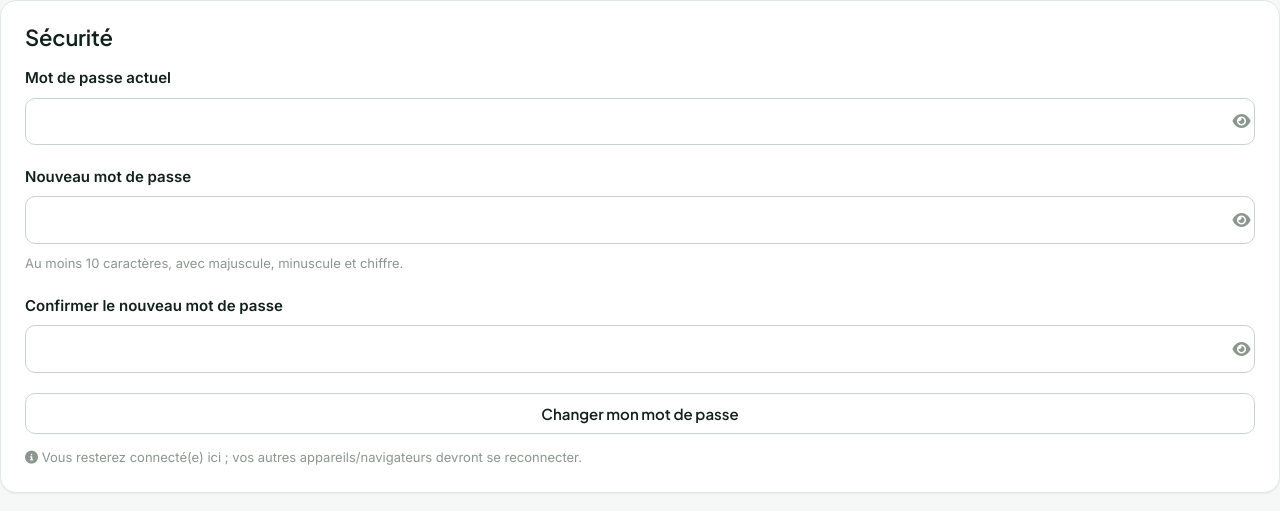
ChangementMotDePasseCard (Lot 13, partagé équipe au Lot 15a) › les 3 champs (actuel/nouveau/confirmation) ont chacun leur bouton œil, indépendants, sans soumettre
The width and height of the screenshot is (1280, 511).
In the password field labelled "Mot de passe actuel": (640, 121) [25,98,1255,145], type "MotDePasse2026"
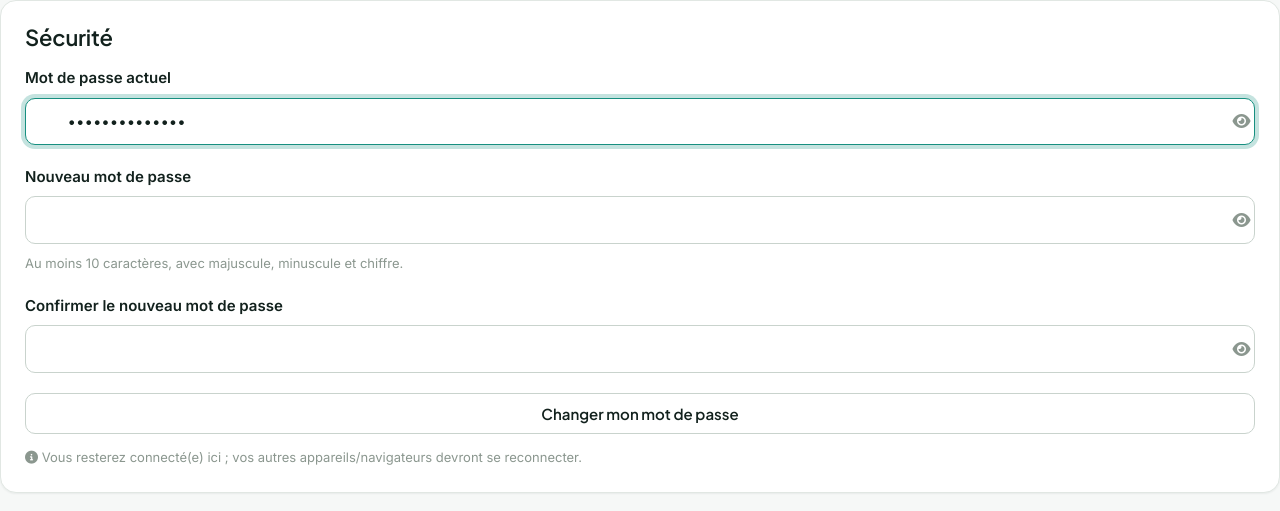
Click the 1st button named "Afficher le mot de passe": (1233, 121) [1218,107,1247,136]
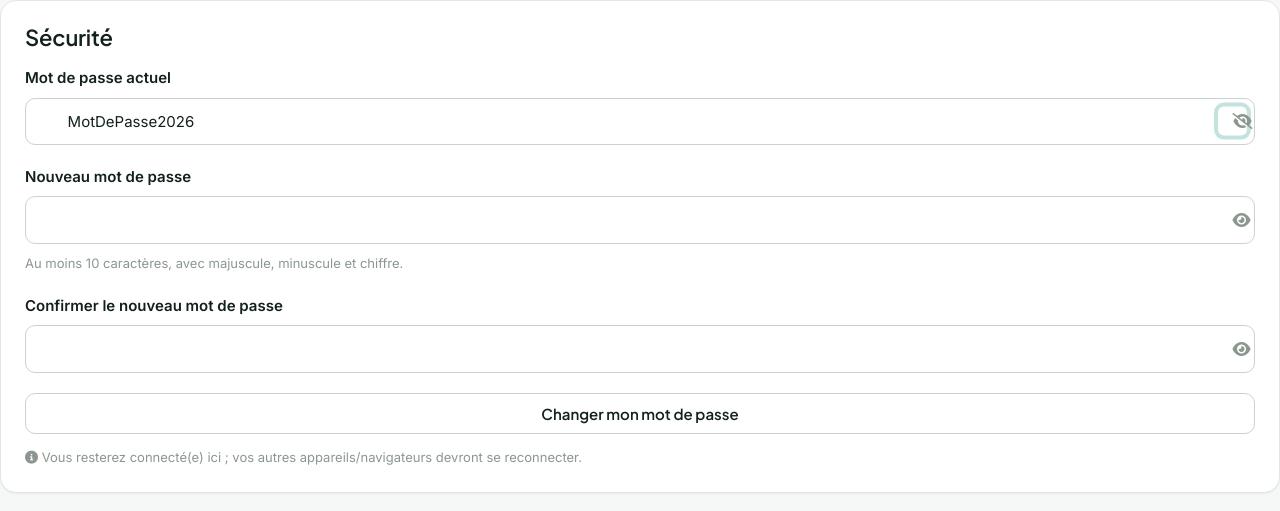
Now the field labelled "Mot de passe actuel" shows its text, box [25,98,1255,145]
